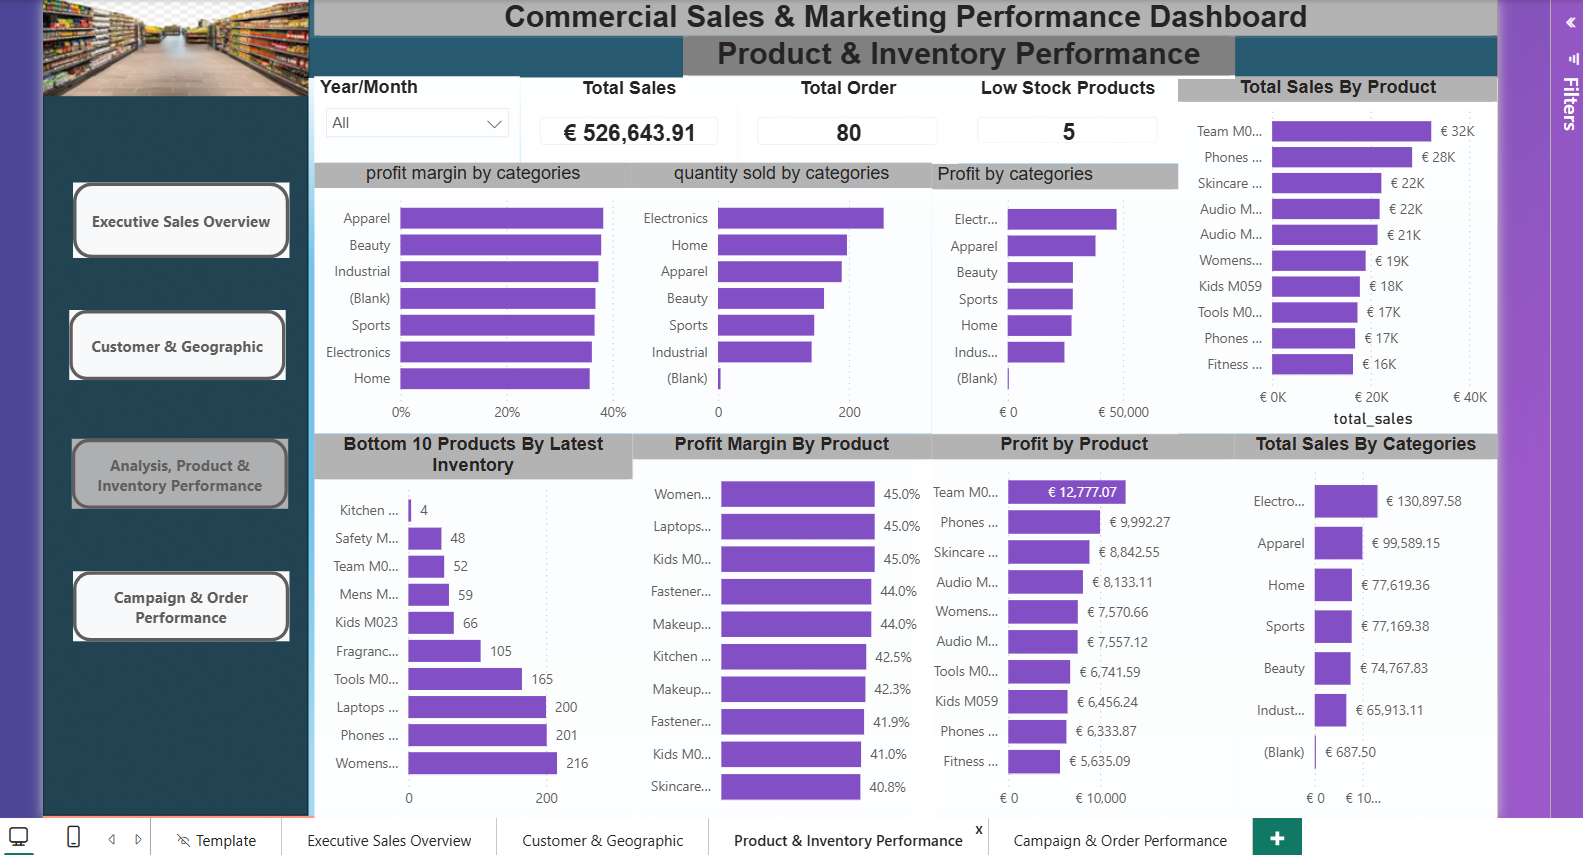

Layout of this report page (visuals, bound fields, positions):
{"tool":"powerbi","page":{"name":"Product & Inventory Performance","canvas":[1280,720],"ordinal":3},"visuals":[{"type":"actionButton","title":"Executive Sales Overview","box":[26.6,161,190,66.6],"z":0},{"type":"actionButton","box":[23,272.4,190,61.7],"z":1000},{"type":"actionButton","box":[25.4,386.1,190,61.7],"z":2000},{"type":"actionButton","box":[26.6,502.4,190,61.7],"z":3000},{"type":"cardVisual","title":"Total Sales","fields":{"Data":["_Measure.total_sales"]},"box":[420,67.8,191.3,77.5],"z":4000},{"type":"slicer","title":"Year/Month","fields":{"Values":["dim_date.year","dim_date.month"]},"box":[238.3,66.9,181.2,76.6],"z":5000},{"type":"cardVisual","title":"Low Stock Products","fields":{"Data":["_Measure.low_stock_Products"]},"box":[805,67.8,193.7,75.1],"z":6000},{"type":"cardVisual","title":"Total Order","fields":{"Data":["_Measure.total_orders"]},"box":[611.3,67.8,193.7,77.5],"z":7000},{"type":"clusteredBarChart","title":"Total Sales By Product","fields":{"Category":["dim_product.ProductName"],"Y":["_Measure.total_sales"]},"box":[998.7,66.6,280.8,314.7],"z":8000},{"type":"clusteredBarChart","title":"Profit by Product","fields":{"Category":["dim_product.ProductName"],"Y":["_Measure.Profit"]},"box":[765,381.3,283.3,338.9],"z":9000},{"type":"clusteredBarChart","title":"Profit Margin By Product ","fields":{"Y":["_Measure.Profit_margin_percent"],"Category":["dim_product.ProductName"]},"box":[518.1,381.3,263.9,338.9],"z":10000},{"type":"clusteredBarChart","title":"Total Sales By Categories","fields":{"Y":["_Measure.total_sales"],"Category":["dim_product.categories"]},"box":[1048.3,381.3,231.2,338.9],"z":11000},{"type":"clusteredBarChart","fields":{"Y":["_Measure.Profit"],"Category":["dim_product.categories"]},"box":[782,144,216.7,237.3],"z":12000},{"type":"clusteredBarChart","title":"profit margin by categories","fields":{"Category":["dim_product.categories"],"Y":["_Measure.Profit_margin_percent"]},"box":[238.5,142.8,279.6,238.5],"z":13000},{"type":"clusteredBarChart","title":"quantity sold by categories","fields":{"Category":["dim_product.categories"],"Y":["_Measure.quantity_sold"]},"box":[518.1,142.8,263.9,238.5],"z":14000},{"type":"clusteredBarChart","title":"Bottom 10 Products By Latest Inventory","fields":{"Y":["_Measure.lastest_inventory"],"Category":["fact_inventory.ProductName"]},"box":[238.5,381.3,279.6,338.9],"z":15000},{"type":"textbox","title":"Commercial Sales & Marketing Performance Dashboard","box":[238.5,0,1041,31.5],"z":15001},{"type":"textbox","title":"Product & Inventory Performance","box":[562.9,31.5,485.4,37.5],"z":15002}]}

Visuals, with their boxes on the page's 1280x720 design canvas (x1, y1, x2, y2). These are canvas units, not pixel positions in the 1583x855 screenshot, which may show the page scaled, cropped or inside an application window:
"Executive Sales Overview" actionButton: 27,161,217,228
actionButton: 23,272,213,334
actionButton: 25,386,215,448
actionButton: 27,502,217,564
"Total Sales" cardVisual: 420,68,611,145
"Year/Month" slicer: 238,67,420,144
"Low Stock Products" cardVisual: 805,68,999,143
"Total Order" cardVisual: 611,68,805,145
"Total Sales By Product" clusteredBarChart: 999,67,1280,381
"Profit by Product" clusteredBarChart: 765,381,1048,720
"Profit Margin By Product " clusteredBarChart: 518,381,782,720
"Total Sales By Categories" clusteredBarChart: 1048,381,1280,720
clusteredBarChart - _Measure.Profit x dim_product.categories: 782,144,999,381
"profit margin by categories" clusteredBarChart: 238,143,518,381
"quantity sold by categories" clusteredBarChart: 518,143,782,381
"Bottom 10 Products By Latest Inventory" clusteredBarChart: 238,381,518,720
"Commercial Sales & Marketing Performance Dashboard" textbox: 238,0,1280,32
"Product & Inventory Performance" textbox: 563,32,1048,69
